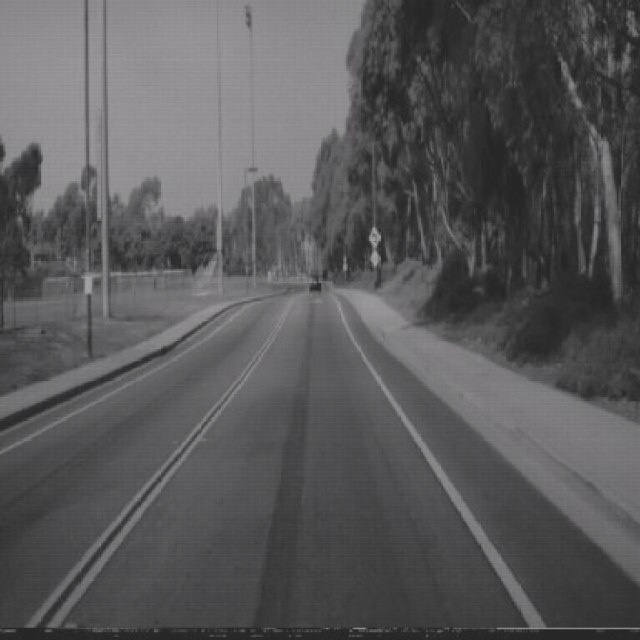turnLeft: (368, 225, 381, 249)
